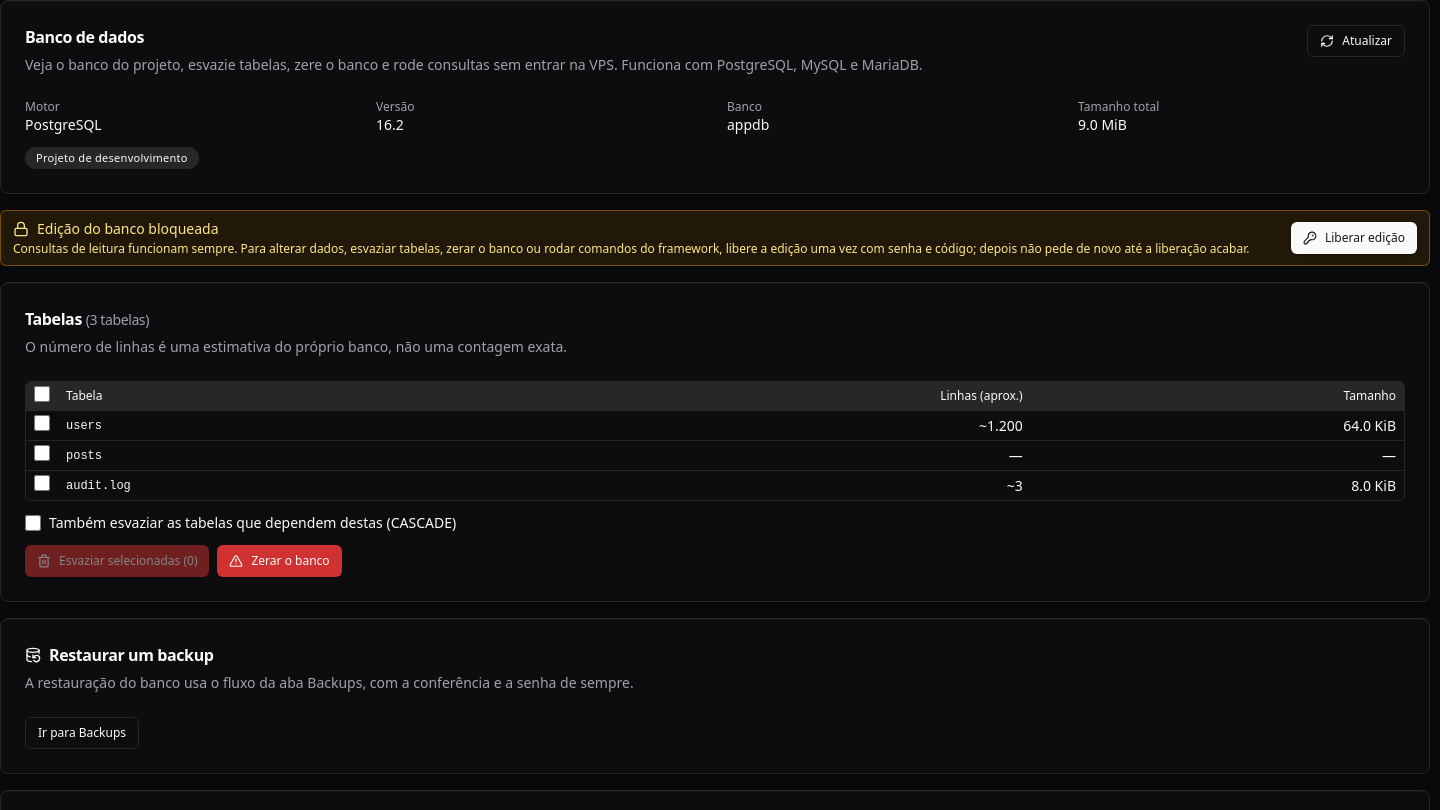
Test: liberar a edição › projeto de desenvolvimento: o backup ao liberar começa desmarcado e vai como 'none'
Expected: the element with test id "database-overview" is shown, [25,98,1159,134]
Expected: the element with test id "database-locked" is shown, [0,210,1430,266]
Step 1. Click the button "Liberar edição" → [1354, 238], box [1291,222,1417,254]
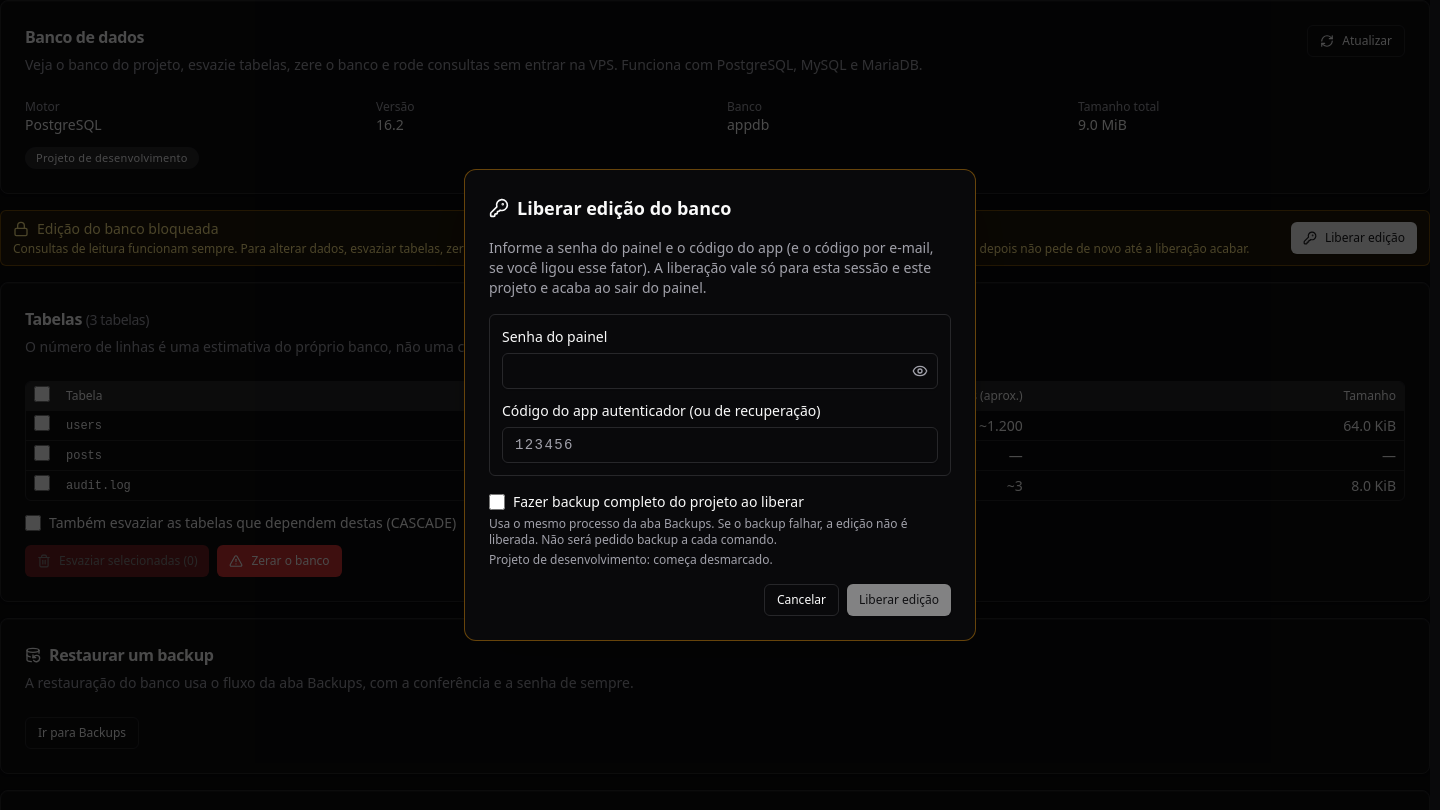
Expected: the checkbox labelled "Fazer backup completo do projeto ao liberar" is not checked, [489,494,505,510]
Expected: the dialog with test id "database-unlock-dialog" shows "começa desmarcado", [489,551,773,568]
Step 2. Type "x" into the password field labelled "Senha do painel" → [720, 371], box [502,353,938,389]
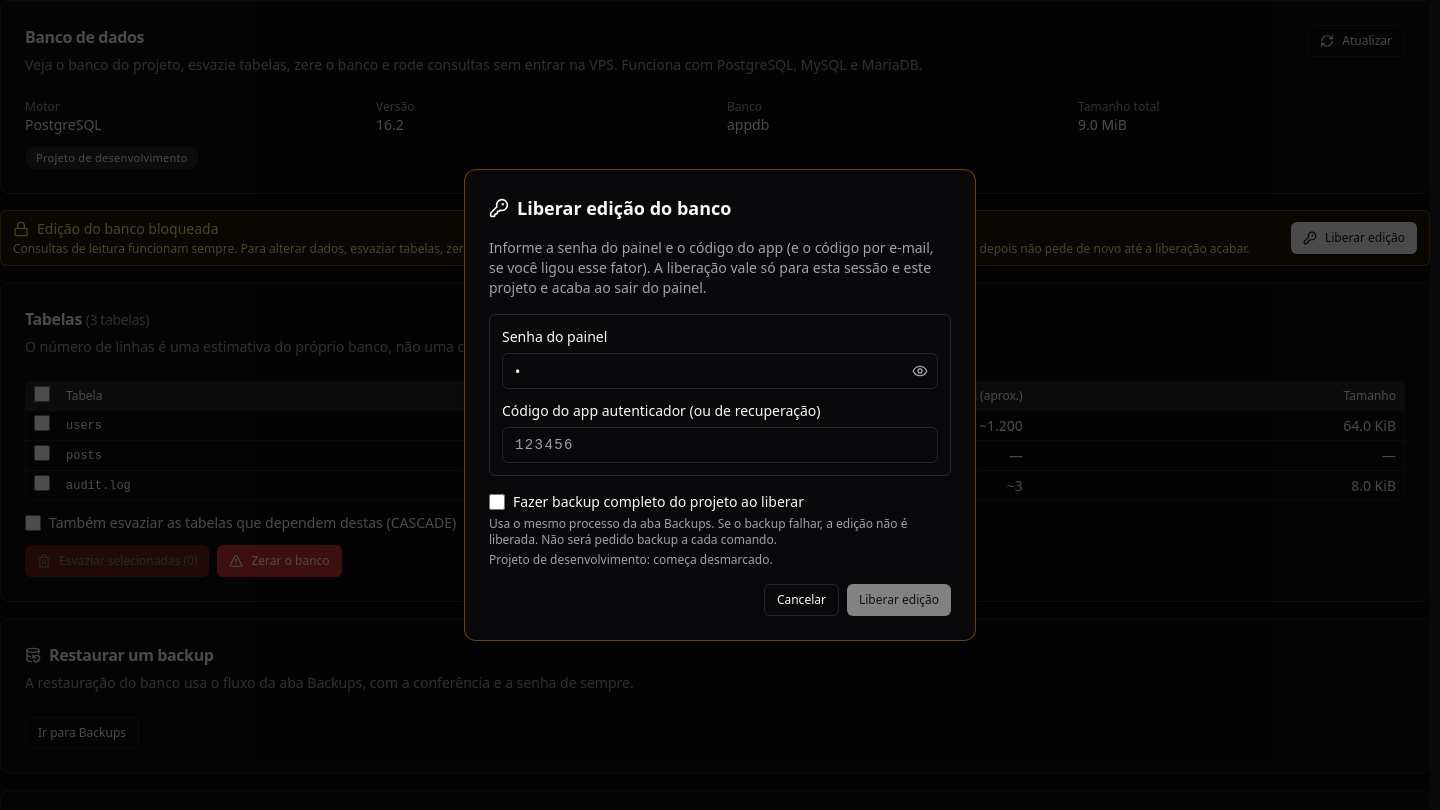
Step 3. Type "1" into the field labelled "Código do app autenticador (ou de recuperação)" → [720, 445], box [502,427,938,463]
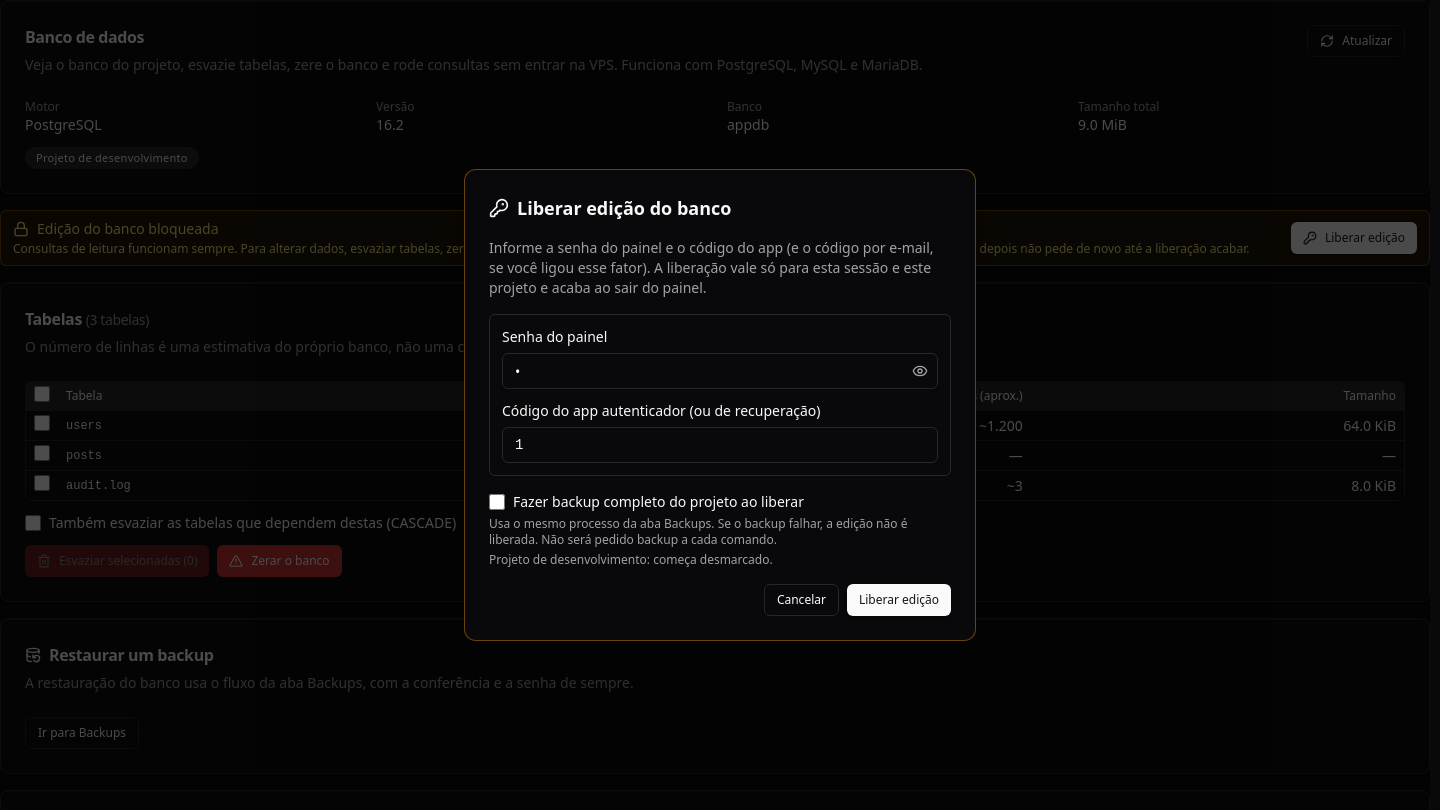
Step 4. Click the button "Liberar edição" → [899, 600], box [847,584,951,616]
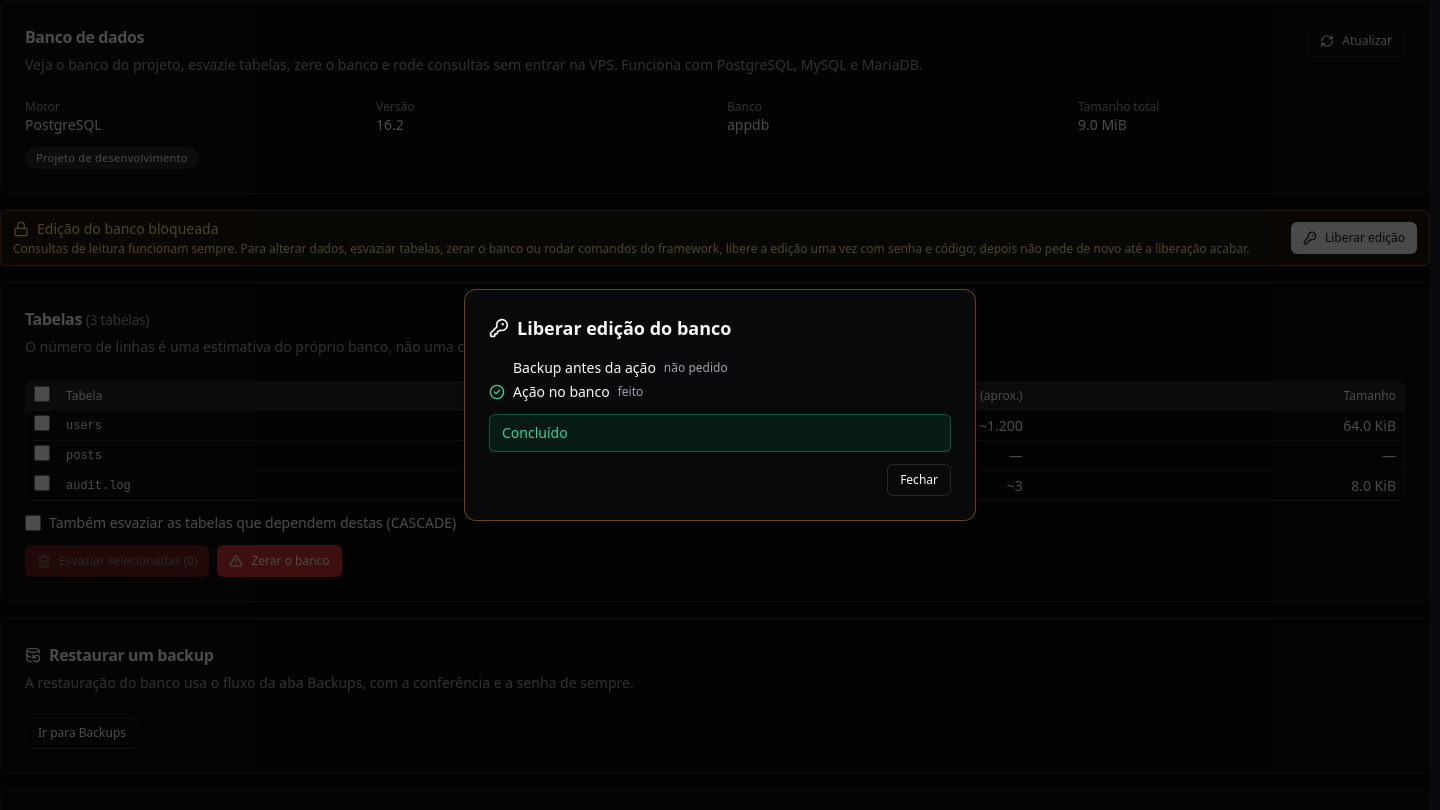
Expected: the text "Concluído" is shown, [489,414,951,452]
